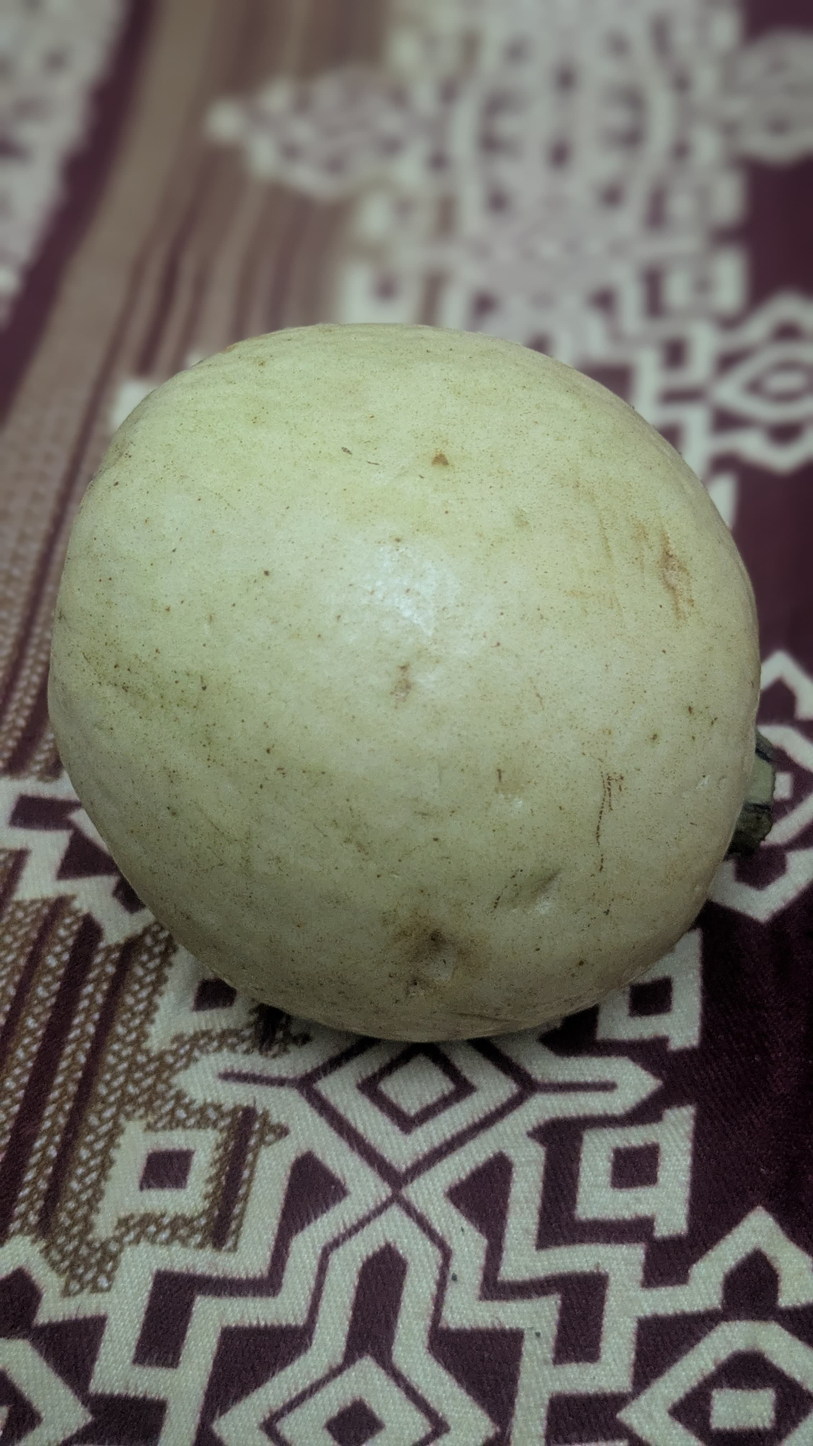guava: (130, 196, 656, 1069)
